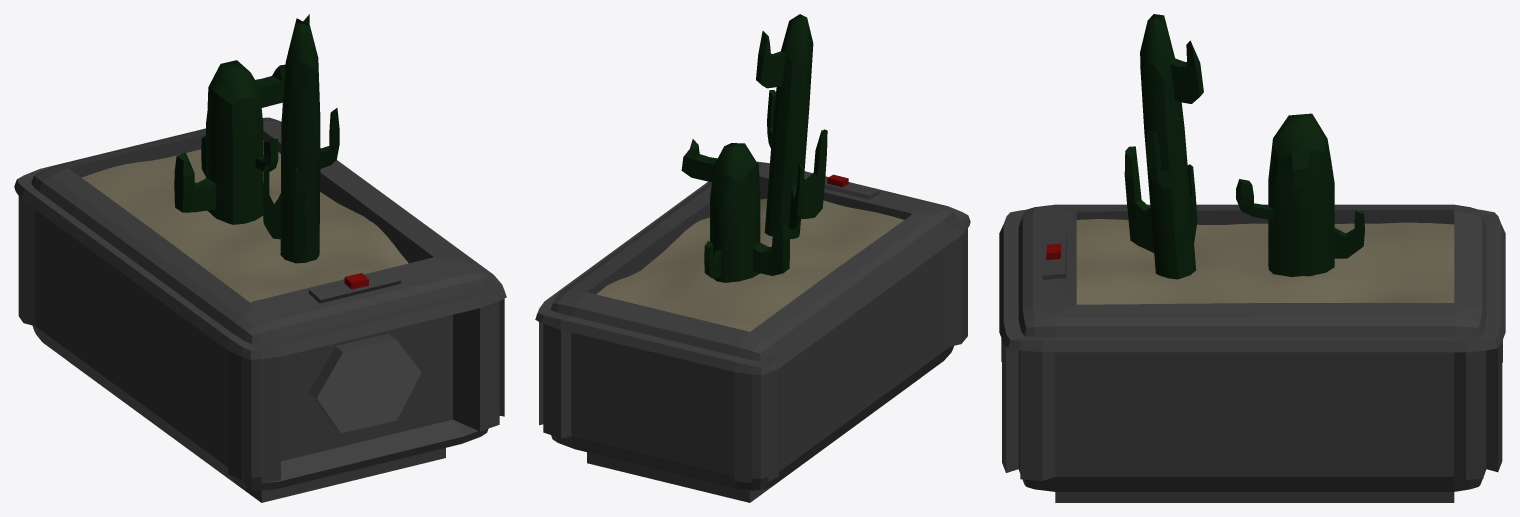
The picture shows the model from 3 angles, left to right: view 1: azimuth 30°, elevation 25°; view 2: azimuth 150°, elevation 25°; view 3: azimuth 270°, elevation 25°; orthographic projection. The views are drawn at different scales.
Visible parts, largest first — view 1: Botanical_Table2, pasted__pCube33, Soil2; view 2: Botanical_Table2, pasted__pCube33, Soil2; view 3: Botanical_Table2, pasted__pCube33, Soil2.
Boxes of the visible parts, x1,y1,x2,y2 form: Botanical_Table2: (14, 117, 506, 502); pasted__pCube33: (174, 14, 339, 263); Soil2: (81, 141, 408, 302); Botanical_Table2: (535, 161, 970, 502); pasted__pCube33: (681, 14, 827, 282); Soil2: (596, 198, 903, 331); Botanical_Table2: (999, 204, 1505, 502); pasted__pCube33: (1124, 14, 1364, 279); Soil2: (1076, 219, 1454, 304).
Size of the model in its own units: 20.39 by 30.53 by 31.93.
